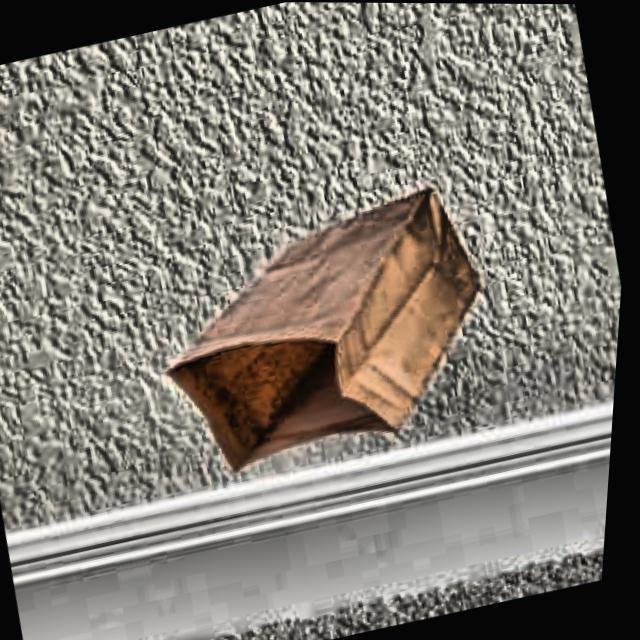Paper-bag: (146, 166, 539, 509)
